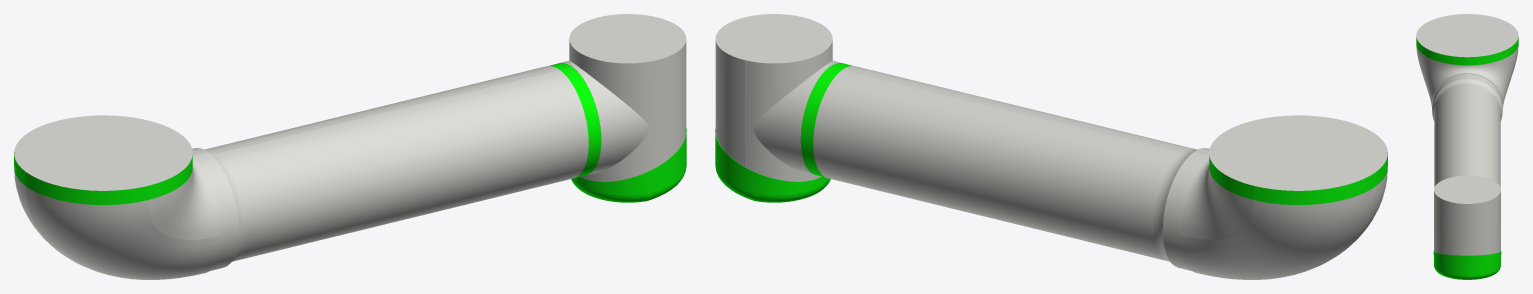
3 views of the same model, side by side, from view 1: azimuth 30°, elevation 25°; view 2: azimuth 150°, elevation 25°; view 3: azimuth 270°, elevation 25° (orthographic). The views are drawn at different scales.
Parts seen in each view (by area): view 1: link3; view 2: link3; view 3: link3.
Boxes of the visible parts, x1=… form: link3: x1=14, y1=14, x2=686, y2=279; link3: x1=715, y1=14, x2=1387, y2=279; link3: x1=1416, y1=14, x2=1518, y2=279.
Bounding box in the file's own units: 0.4893 × 0.116 × 0.1123.
